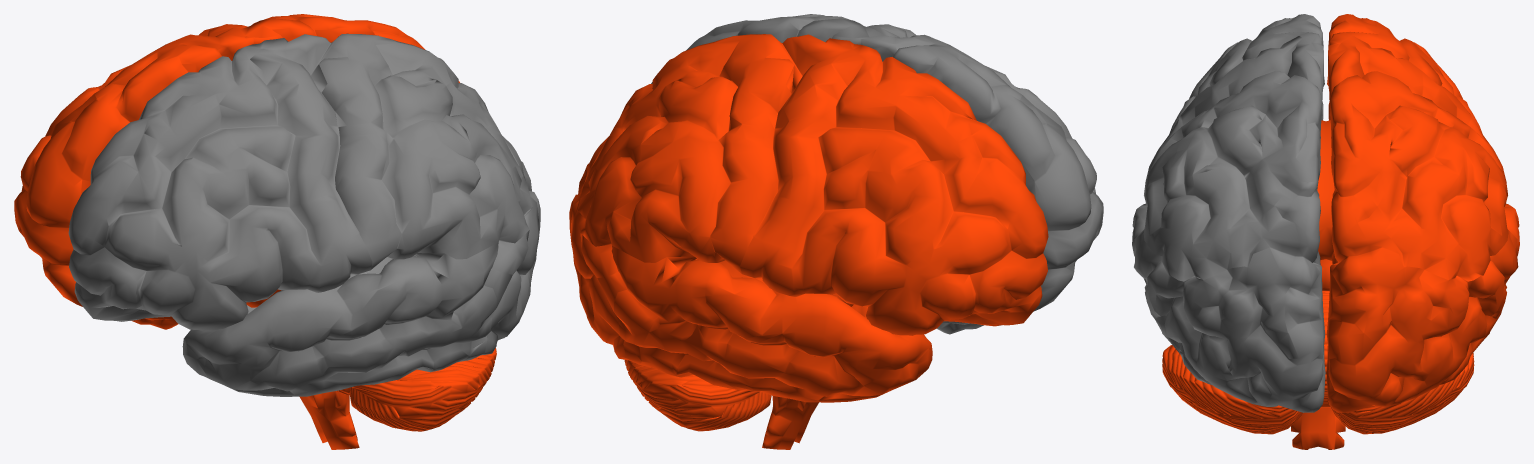
The model's file is brain.gltf.
The picture shows the model from 3 angles, left to right: view 1: azimuth 30°, elevation 25°; view 2: azimuth 150°, elevation 25°; view 3: azimuth 270°, elevation 25°; orthographic projection. The views are drawn at different scales.
Parts seen in each view (by area): view 1: object 9, object 11, object 8, object 3, cereb, object 10, stem, object 4; view 2: object 3, object 4, object 6, object 9, cereb, object 7, stem, object 11; view 3: object 4, object 11, object 10, object 7, cereb, object 3, object 9, stem, corpus, object 6, object 8.
Part boxes in pixels (x1,y1,x2,y2): object 9: [68, 34, 372, 330]; object 11: [316, 33, 532, 269]; object 8: [182, 242, 498, 396]; object 3: [14, 18, 315, 306]; cereb: [337, 348, 496, 431]; object 10: [481, 136, 540, 355]; stem: [246, 289, 359, 449]; object 4: [252, 14, 459, 82]; object 3: [740, 34, 1048, 335]; object 4: [577, 34, 796, 273]; object 6: [611, 246, 932, 402]; object 9: [797, 18, 1103, 311]; cereb: [624, 360, 771, 431]; object 7: [569, 136, 630, 360]; stem: [762, 293, 853, 449]; object 11: [651, 14, 861, 83]; object 4: [1329, 71, 1508, 281]; object 11: [1143, 71, 1322, 281]; object 10: [1147, 247, 1325, 412]; object 7: [1326, 247, 1504, 412]; cereb: [1162, 290, 1474, 434]; object 3: [1327, 14, 1501, 164]; object 9: [1150, 14, 1324, 164]; stem: [1291, 259, 1345, 449]; corpus: [1317, 120, 1334, 260]; object 6: [1467, 203, 1519, 363]; object 8: [1132, 203, 1184, 363].
Size of the model in its own units: 32.62 by 28.54 by 26.81.
